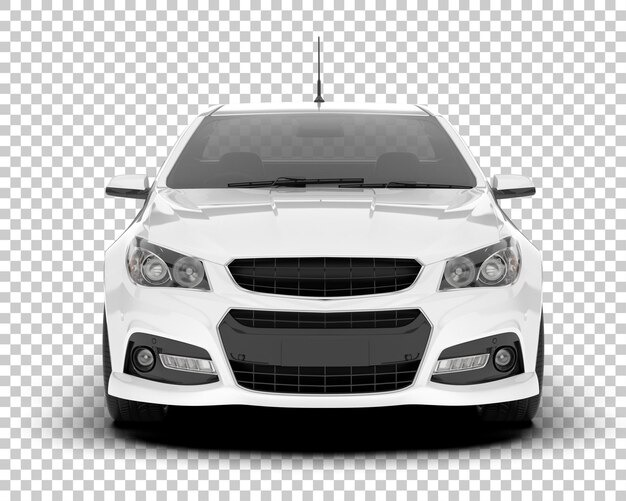car: (88, 107, 562, 440)
